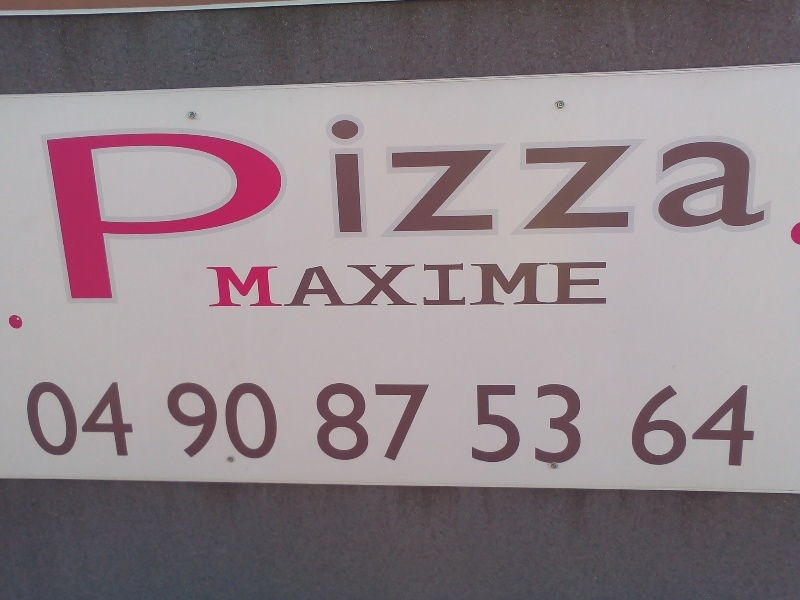text: (49, 113, 64, 306), (65, 113, 80, 306), (81, 113, 96, 306), (97, 113, 112, 306), (113, 113, 128, 306), (129, 113, 144, 306), (145, 113, 160, 306), (161, 113, 176, 306), (177, 113, 192, 306), (193, 113, 208, 306), (209, 113, 224, 306), (225, 113, 240, 306), (241, 113, 256, 306), (257, 113, 272, 306), (273, 113, 288, 306), (289, 113, 304, 306), (305, 113, 320, 306), (321, 113, 336, 306), (337, 113, 352, 306), (353, 113, 368, 306), (369, 113, 384, 306), (385, 113, 400, 306), (401, 113, 416, 306), (417, 113, 432, 306), (433, 113, 448, 306), (449, 113, 464, 306), (465, 113, 480, 306), (481, 113, 496, 306), (497, 113, 512, 306), (513, 113, 528, 306), (529, 113, 544, 306), (545, 113, 560, 306), (561, 113, 576, 306), (577, 113, 592, 306), (593, 113, 608, 306), (609, 113, 624, 306), (625, 113, 640, 306), (641, 113, 656, 306), (657, 113, 672, 306), (673, 113, 688, 306), (689, 113, 704, 306), (705, 113, 720, 306), (721, 113, 736, 306), (737, 113, 752, 306), (753, 113, 768, 306), (37, 113, 48, 306), (481, 381, 496, 469), (497, 381, 512, 469), (513, 381, 528, 469), (529, 381, 544, 469), (545, 381, 560, 469), (561, 381, 576, 469), (641, 384, 656, 470), (657, 384, 672, 470), (673, 384, 688, 470), (689, 384, 704, 470), (705, 384, 720, 470), (721, 384, 736, 470), (737, 384, 752, 470), (321, 381, 336, 464), (337, 381, 352, 464), (353, 381, 368, 464), (369, 381, 384, 464), (385, 381, 400, 464), (401, 381, 416, 464), (417, 381, 432, 464), (177, 380, 192, 461), (193, 380, 208, 461), (209, 380, 224, 461), (225, 380, 240, 461), (241, 380, 256, 461), (257, 380, 272, 461), (33, 381, 48, 457), (49, 381, 64, 457), (65, 381, 80, 457), (81, 381, 96, 457), (97, 381, 112, 457), (113, 381, 128, 457), (628, 384, 640, 470), (165, 380, 176, 461), (470, 381, 480, 469), (577, 381, 586, 469), (593, 261, 609, 309), (22, 381, 32, 457), (209, 261, 224, 309), (225, 261, 240, 309), (241, 261, 256, 309), (257, 261, 272, 309), (273, 261, 288, 309), (289, 261, 304, 309), (305, 261, 320, 309), (321, 261, 336, 309), (337, 261, 352, 309), (353, 261, 368, 309), (369, 261, 384, 309), (385, 261, 400, 309), (401, 261, 416, 309), (417, 261, 432, 309), (433, 261, 448, 309), (449, 261, 464, 309), (465, 261, 480, 309), (481, 261, 496, 309), (497, 261, 512, 309), (513, 261, 528, 309), (529, 261, 544, 309), (545, 261, 560, 309), (561, 261, 576, 309), (577, 261, 592, 309), (129, 381, 138, 457), (769, 113, 772, 306), (753, 384, 759, 470), (314, 381, 320, 464), (273, 380, 279, 461), (433, 381, 435, 464), (206, 261, 208, 309)
